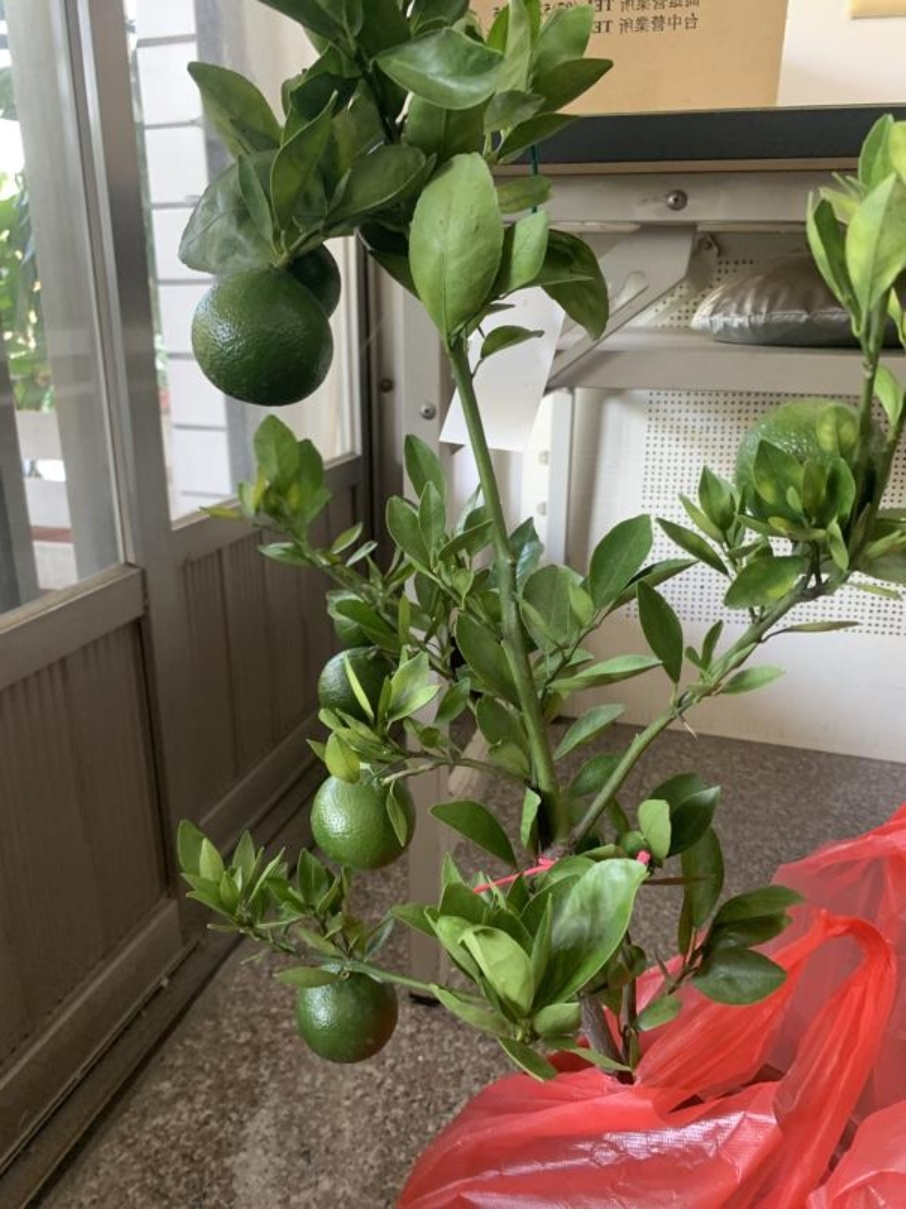Tangerine: (193, 255, 339, 409), (290, 957, 404, 1069), (306, 766, 419, 869)
